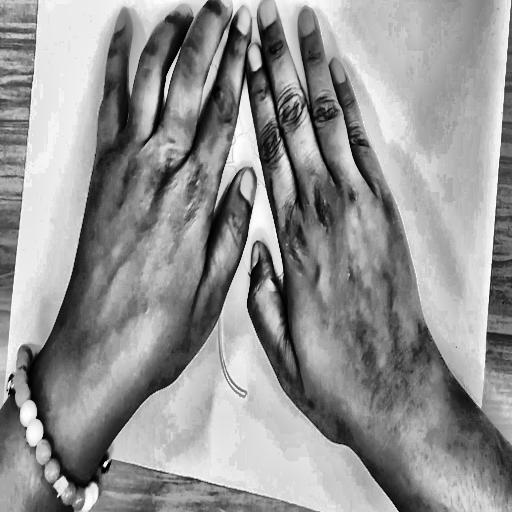flower: (126, 0, 345, 426)
